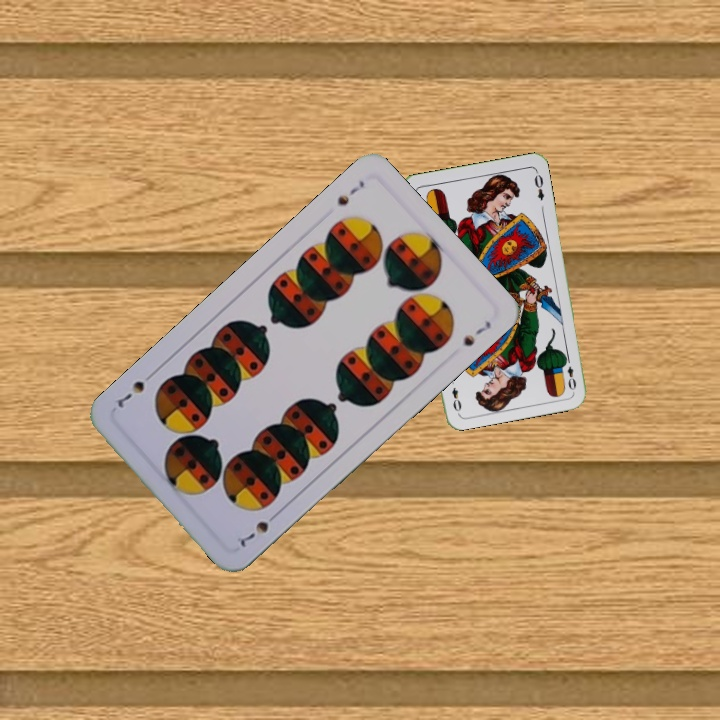EO: (560, 353, 579, 393)
S7: (235, 508, 282, 550), (333, 176, 367, 209)
